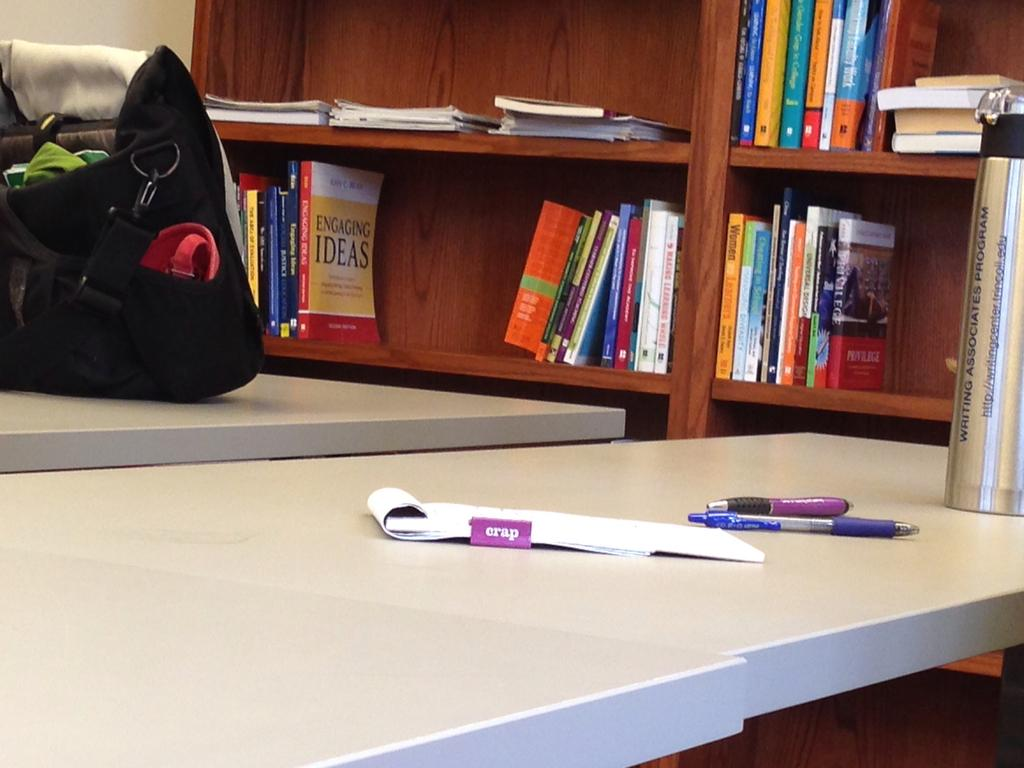pen: (684, 513, 924, 534), (705, 497, 856, 513)
